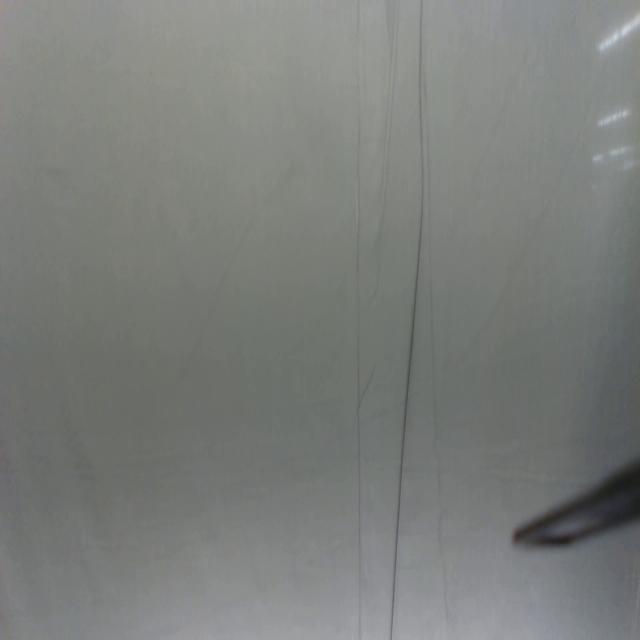crease: (388, 0, 429, 640), (352, 0, 369, 640), (375, 0, 403, 270)
